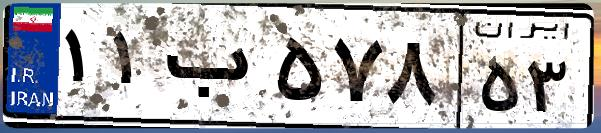1: (57, 26, 110, 100), (110, 28, 158, 98)
3: (525, 38, 570, 115)
5: (270, 28, 330, 110), (475, 38, 525, 113)
7: (330, 28, 385, 110)
8: (385, 28, 445, 110)
ب: (158, 20, 270, 120)
